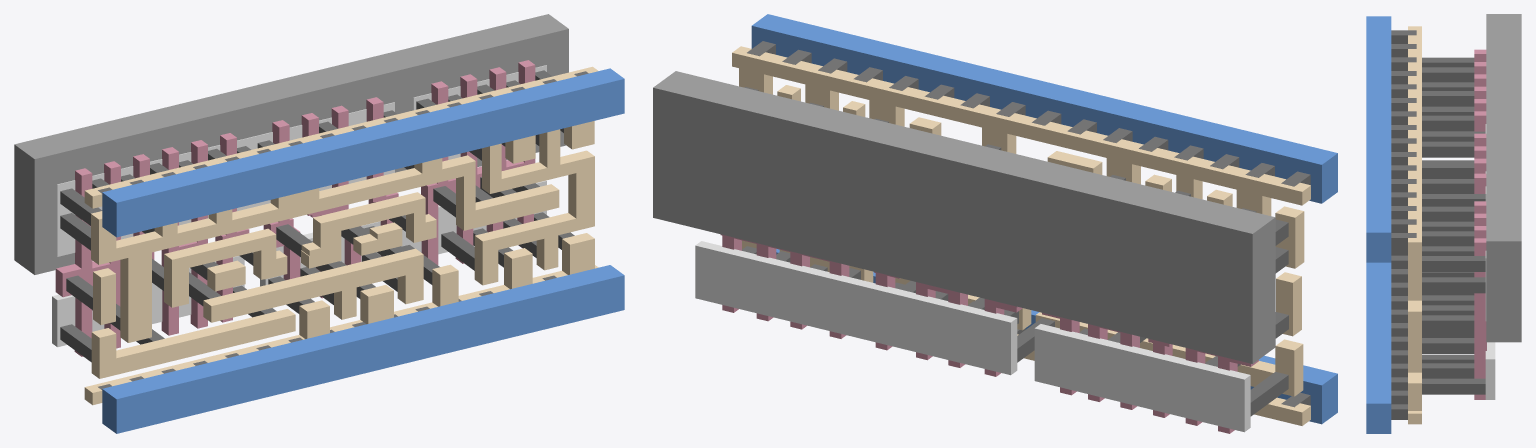
Rendered from sky130_fd_sc_hd__o2111a_4.gds.gltf.
3 renders of one model, left to right at view 1: azimuth 30°, elevation 25°; view 2: azimuth 150°, elevation 25°; view 3: azimuth 270°, elevation 25°, orthographic. The views are drawn at different scales.
Visible parts, largest first — view 1: sky130_fd_sc_hd__o2111a_4_li1, sky130_fd_sc_hd__o2111a_4_met1, sky130_fd_sc_hd__o2111a_4_nwell, sky130_fd_sc_hd__o2111a_4_poly, sky130_fd_sc_hd__o2111a_4_licon, sky130_fd_sc_hd__o2111a_4_diff, sky130_fd_sc_hd__o2111a_4_mcon; view 2: sky130_fd_sc_hd__o2111a_4_nwell, sky130_fd_sc_hd__o2111a_4_diff, sky130_fd_sc_hd__o2111a_4_li1, sky130_fd_sc_hd__o2111a_4_met1, sky130_fd_sc_hd__o2111a_4_poly, sky130_fd_sc_hd__o2111a_4_mcon, sky130_fd_sc_hd__o2111a_4_licon; view 3: sky130_fd_sc_hd__o2111a_4_licon, sky130_fd_sc_hd__o2111a_4_nwell, sky130_fd_sc_hd__o2111a_4_met1, sky130_fd_sc_hd__o2111a_4_mcon, sky130_fd_sc_hd__o2111a_4_li1, sky130_fd_sc_hd__o2111a_4_poly, sky130_fd_sc_hd__o2111a_4_diff.
Part boxes in pixels (left/top/right/bottom): sky130_fd_sc_hd__o2111a_4_li1: left=84, top=66, right=598, bottom=405; sky130_fd_sc_hd__o2111a_4_met1: left=102, top=68, right=624, bottom=433; sky130_fd_sc_hd__o2111a_4_nwell: left=14, top=14, right=568, bottom=274; sky130_fd_sc_hd__o2111a_4_poly: left=55, top=60, right=535, bottom=356; sky130_fd_sc_hd__o2111a_4_licon: left=60, top=70, right=574, bottom=362; sky130_fd_sc_hd__o2111a_4_diff: left=52, top=65, right=546, bottom=347; sky130_fd_sc_hd__o2111a_4_mcon: left=98, top=71, right=588, bottom=389; sky130_fd_sc_hd__o2111a_4_nwell: left=653, top=71, right=1275, bottom=363; sky130_fd_sc_hd__o2111a_4_diff: left=695, top=241, right=1250, bottom=432; sky130_fd_sc_hd__o2111a_4_li1: left=732, top=46, right=1310, bottom=425; sky130_fd_sc_hd__o2111a_4_met1: left=751, top=14, right=1337, bottom=424; sky130_fd_sc_hd__o2111a_4_poly: left=720, top=234, right=1258, bottom=433; sky130_fd_sc_hd__o2111a_4_mcon: left=747, top=41, right=1310, bottom=407; sky130_fd_sc_hd__o2111a_4_licon: left=742, top=87, right=1288, bottom=416; sky130_fd_sc_hd__o2111a_4_licon: left=1422, top=57, right=1485, bottom=394; sky130_fd_sc_hd__o2111a_4_nwell: left=1486, top=14, right=1521, bottom=342; sky130_fd_sc_hd__o2111a_4_met1: left=1366, top=16, right=1391, bottom=433; sky130_fd_sc_hd__o2111a_4_mcon: left=1391, top=30, right=1416, bottom=419; sky130_fd_sc_hd__o2111a_4_li1: left=1408, top=26, right=1421, bottom=424; sky130_fd_sc_hd__o2111a_4_poly: left=1474, top=49, right=1486, bottom=399; sky130_fd_sc_hd__o2111a_4_diff: left=1485, top=124, right=1495, bottom=399.
Bounding box in the file's own units: 7.74 × 3.2 × 2.24.
